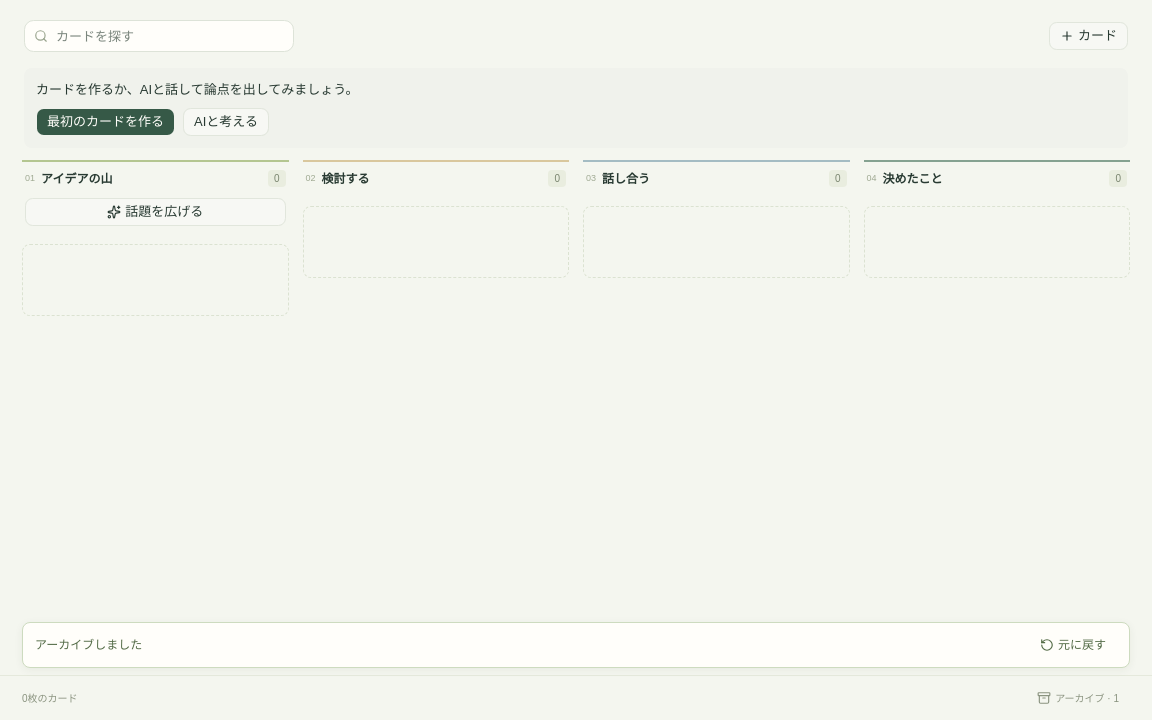
Scenario: archives a dropped card after saving and undoes using the saved revision
expect the button with aria-label "アーカイブ 1件" is shown: met, box 1026,684 -> 1130,712
expect the text "アーカイブしました" is shown: met, box 35,636 -> 142,654
Click the button "元に戻す".
click(1073, 645)  # box 1029,631 -> 1117,659
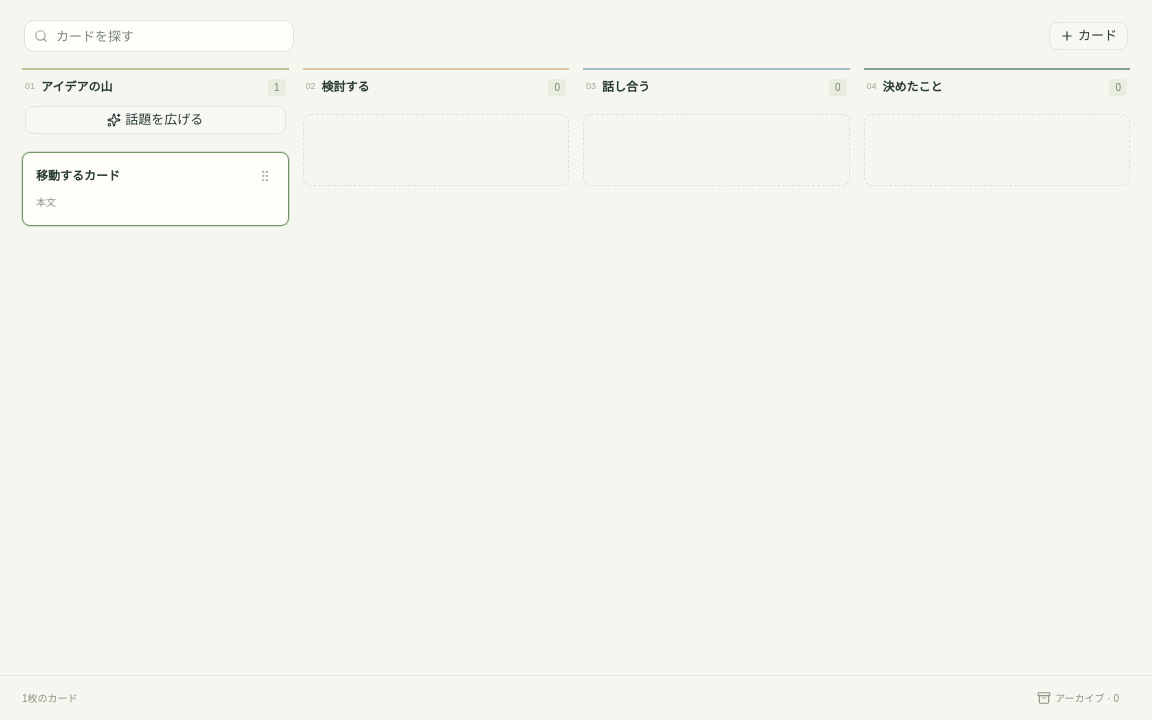
expect the number of headings "移動するカード" is 1: met, box 36,169 -> 120,183
